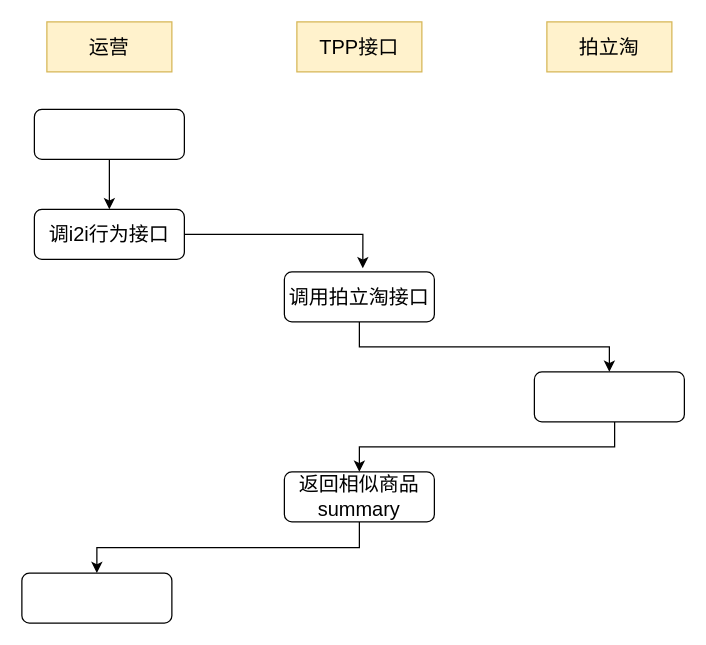
The diagram is 706 pixels wide and 645 high, and some of its shapes have lost their labels. Here are the shapes that lost their labels. From the top down, the box of each, then its label:
(33, 108, 184, 159): 填入商品ID
(533, 371, 684, 422): 通过图片url 找相似
(21, 572, 172, 623): 完成1对n商品 屏蔽
